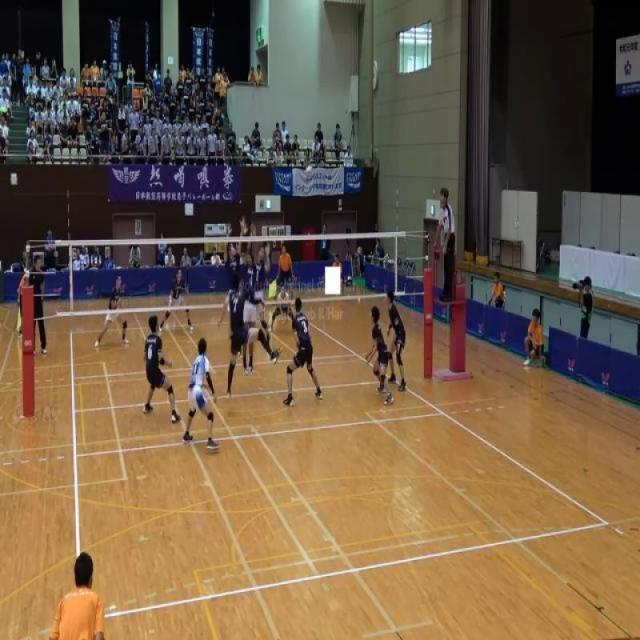volleyball: (305, 164, 313, 175)
